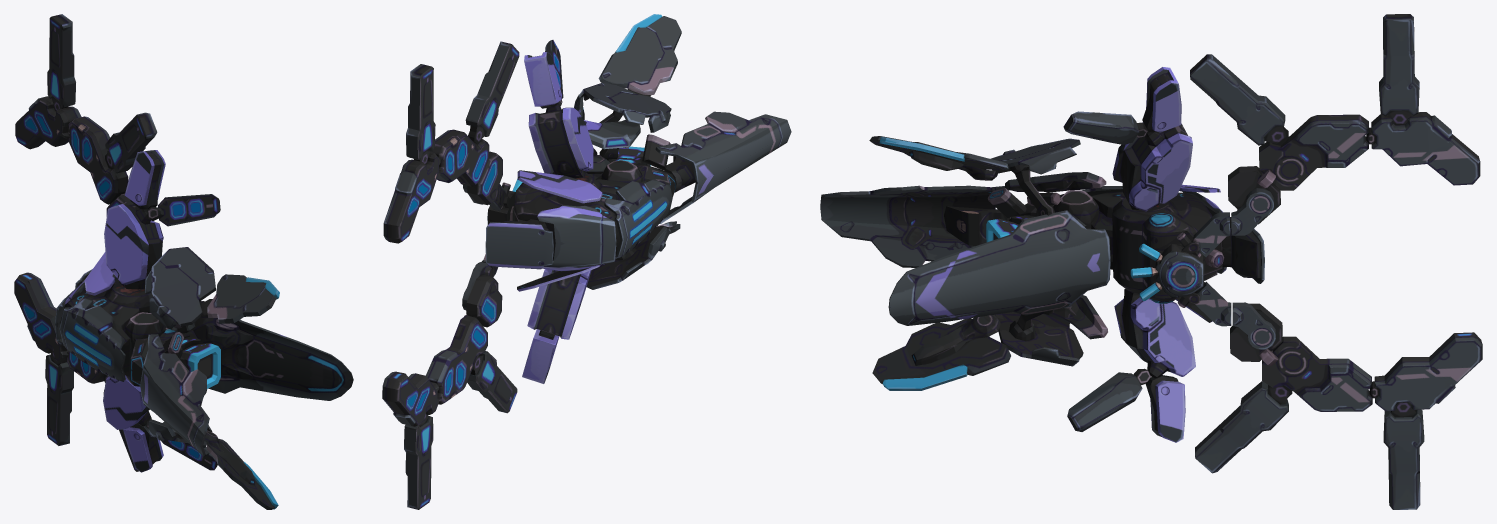
File: Npc_RO_020_1.fbx
3 renders of one model, left to right at view 1: azimuth 30°, elevation 25°; view 2: azimuth 150°, elevation 25°; view 3: azimuth 270°, elevation 25°, orthographic. The views are drawn at different scales.
Parts seen in each view (by area): view 1: RO_020; view 2: RO_020; view 3: RO_020.
Boxes of the visible parts, left/top/right/bottom form: RO_020: left=14, top=14, right=353, bottom=509; RO_020: left=382, top=14, right=791, bottom=509; RO_020: left=820, top=14, right=1482, bottom=509.
Bounding box in the file's own units: 0.8651 × 1.92 × 2.35.
